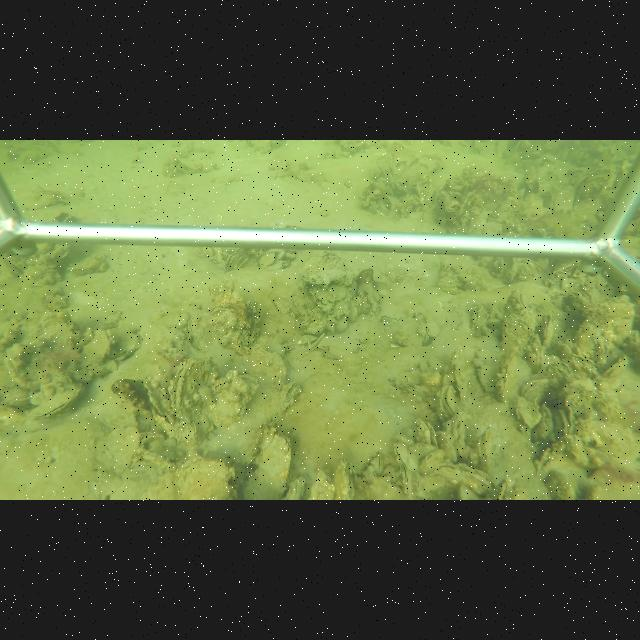Oyster-Closed: (238, 425, 298, 500), (209, 375, 260, 433), (173, 455, 236, 500), (24, 382, 85, 421), (298, 251, 358, 289), (74, 328, 114, 374), (501, 313, 539, 360), (500, 355, 534, 402), (333, 456, 356, 500), (112, 329, 143, 361), (476, 359, 497, 394), (394, 444, 419, 468), (541, 316, 557, 351), (400, 463, 415, 496)
Oyster-Open: (170, 356, 207, 426), (435, 460, 495, 493), (553, 403, 579, 434), (437, 384, 461, 416), (224, 247, 251, 274), (416, 417, 439, 447)
